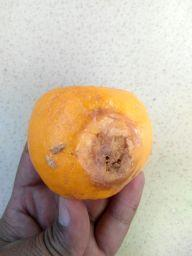Unripe: (28, 85, 155, 199)
